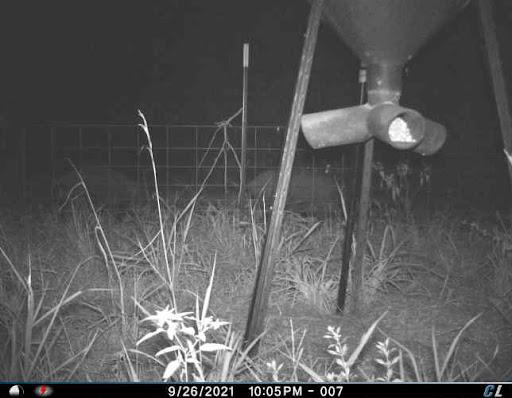Hog: (229, 156, 349, 239), (50, 160, 154, 233)
